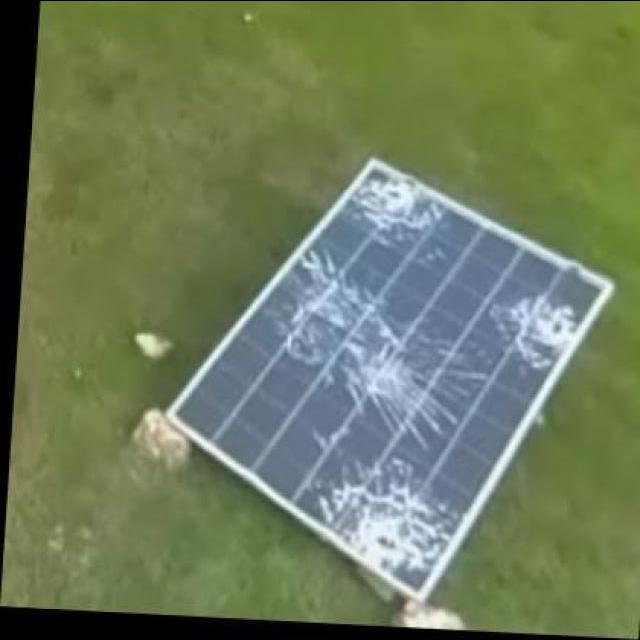cracked: (166, 146, 616, 594)
